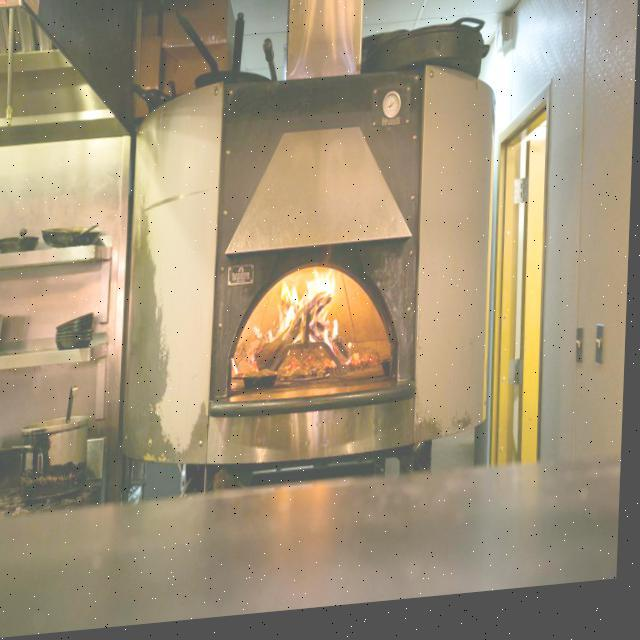Fire: (260, 276, 346, 380)
